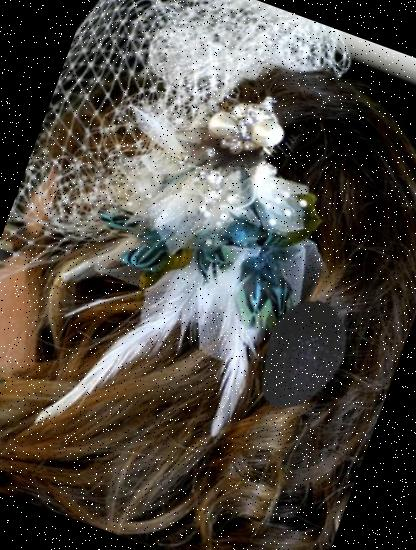Avocado: (229, 283, 376, 430)
